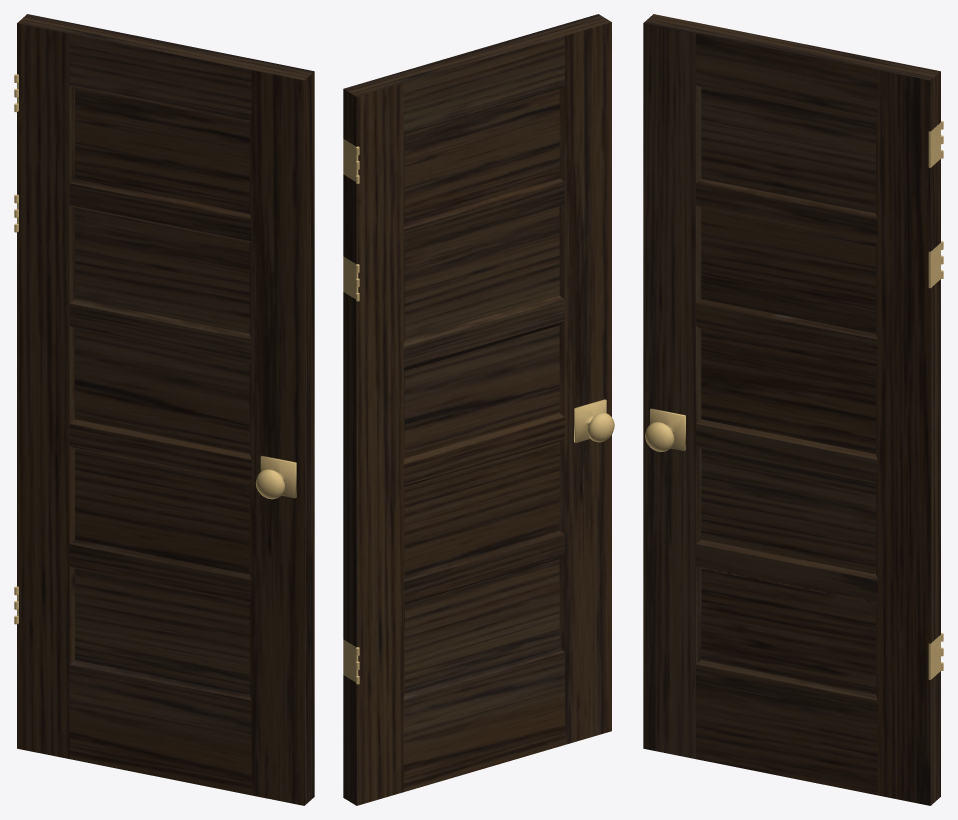
Rendered from Door.fbx.
3 renders of one model, left to right at view 1: azimuth 90°, elevation 25°; view 2: azimuth 150°, elevation 25°; view 3: azimuth 270°, elevation 25°, orthographic. The views are drawn at different scales.
Visible parts, largest first — view 1: Door_Baked; view 2: Door_Baked; view 3: Door_Baked.
Part boxes in pixels (x1,y1,x2,y2): Door_Baked: [14, 14, 314, 805]; Door_Baked: [343, 14, 614, 805]; Door_Baked: [643, 14, 943, 805].
Size of the model in its own units: 43.6 by 199 by 74.7.
